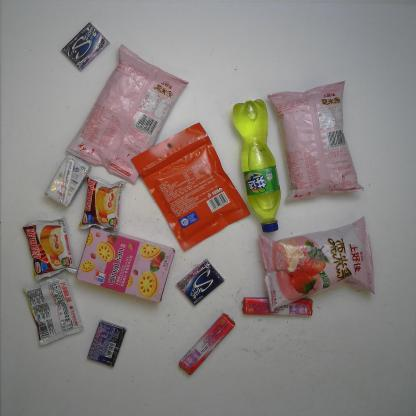Candy: (177, 312, 236, 376), (238, 296, 316, 320)
Dessert: (76, 226, 175, 304), (18, 274, 86, 348), (19, 216, 79, 285), (76, 172, 126, 233)
Dried Fruit: (130, 121, 254, 255)
Drink: (230, 97, 282, 236)
Gum: (59, 22, 111, 73), (176, 257, 226, 308), (87, 318, 128, 368)
Milk: (43, 154, 92, 210)
Puffed Food: (64, 44, 188, 186), (266, 79, 366, 205), (258, 212, 378, 313)
